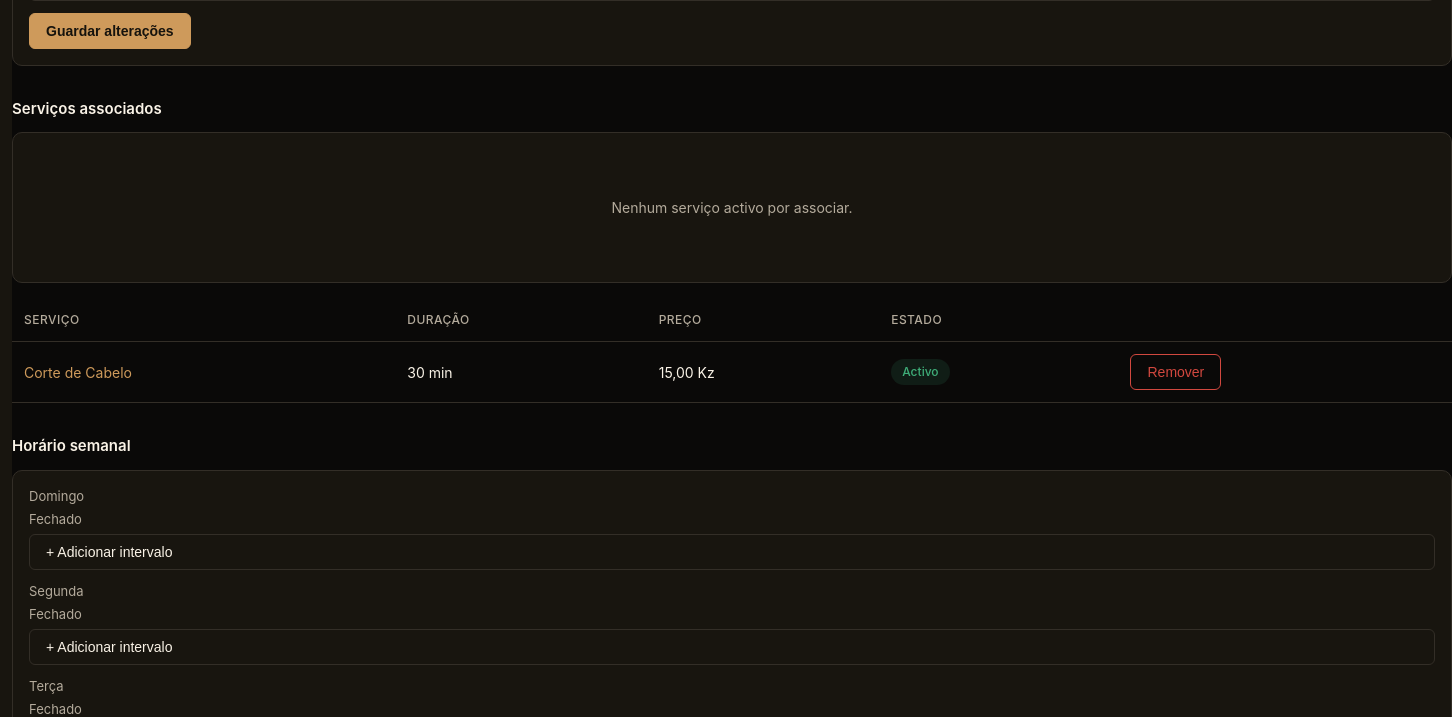
Test: ProfessionalDetailPage — associated services (empty/associate/remove) › OWNER removes an associated service and it disappears from the table
(page scrolled)
Expected: the link "Corte de Cabelo" is shown, [24,364,132,380]
Step 1. Click the button "Remover" → (1176,372), box [1130,354,1221,390]
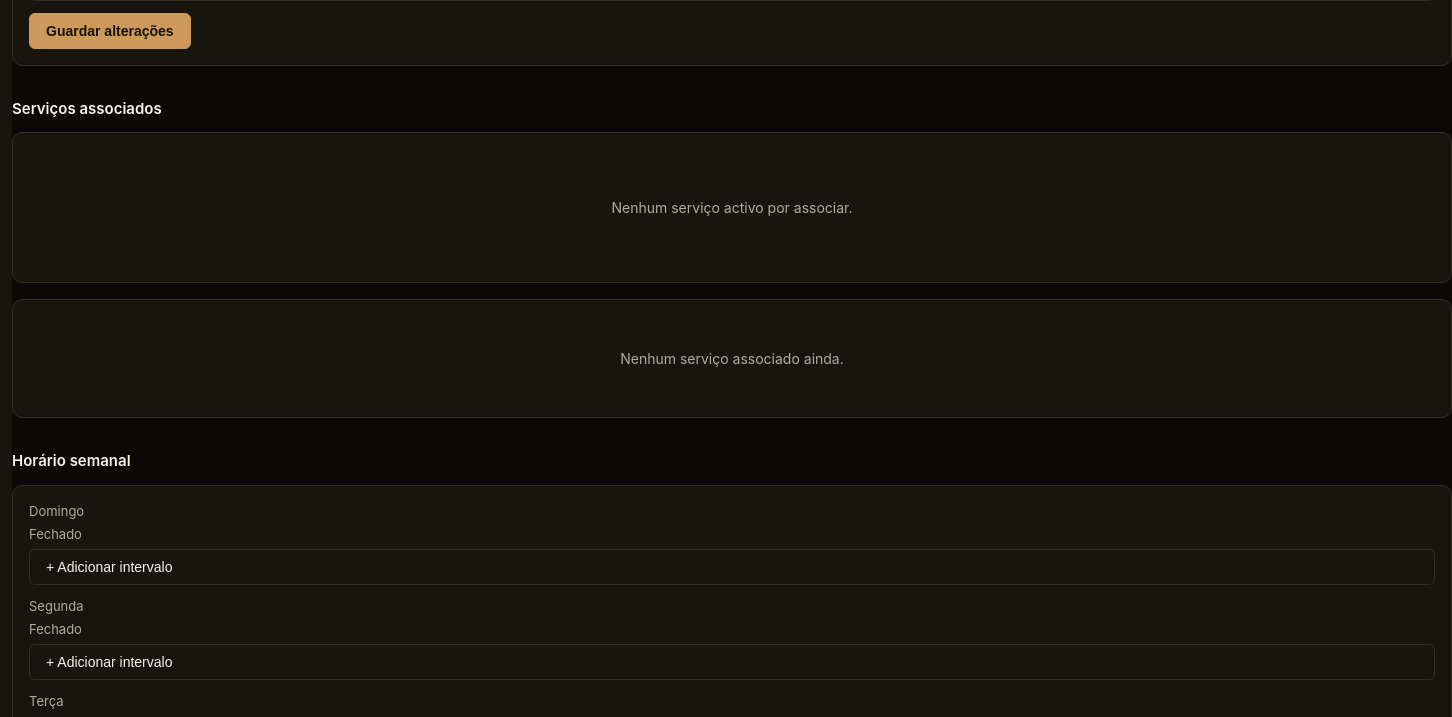
Expected: the link "Corte de Cabelo" is gone
